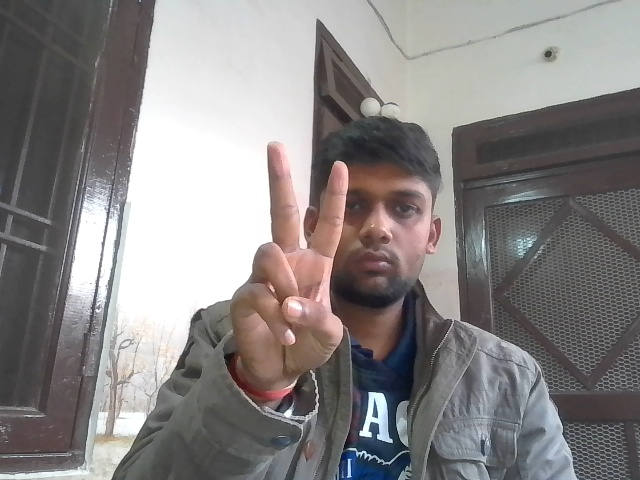Enjoy: (225, 134, 351, 379)
